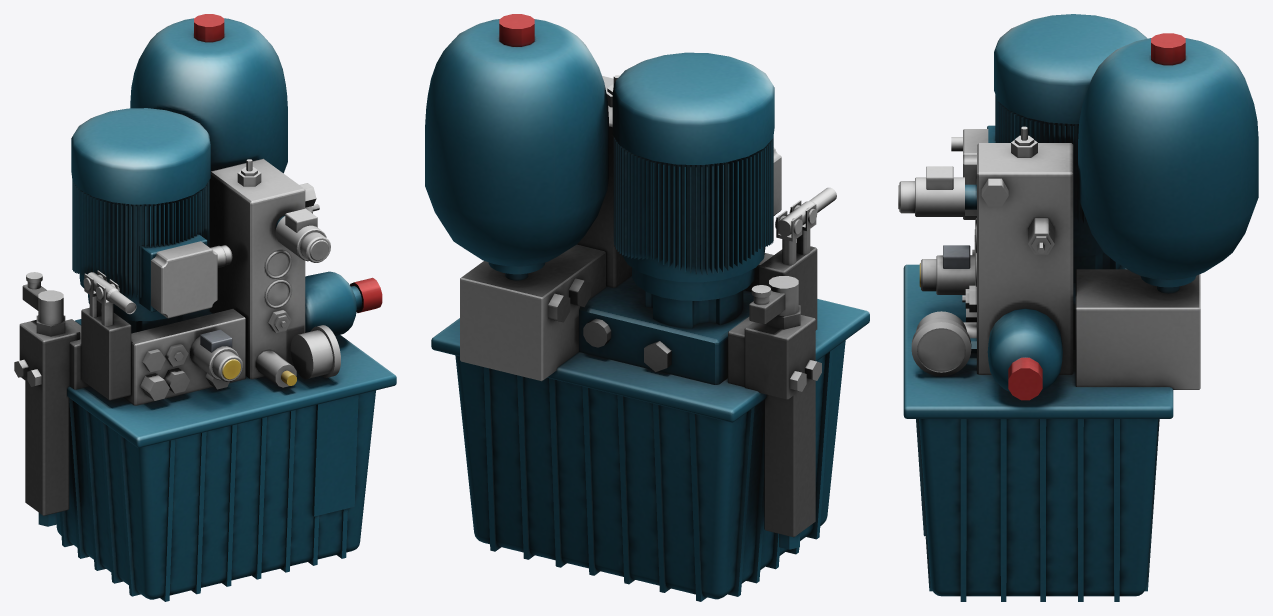
The picture shows the model from 3 angles, left to right: view 1: azimuth 30°, elevation 25°; view 2: azimuth 150°, elevation 25°; view 3: azimuth 270°, elevation 25°; orthographic projection. The views are drawn at different scales.
Parts seen in each view (by area): view 1: small_buran; view 2: small_buran; view 3: small_buran.
Boxes of the visible parts, bbox=[...] form: small_buran: bbox=[14, 14, 396, 601]; small_buran: bbox=[425, 14, 869, 601]; small_buran: bbox=[898, 14, 1258, 601].
Size of the model in its own units: 0.4534 by 0.6329 by 0.3878.
